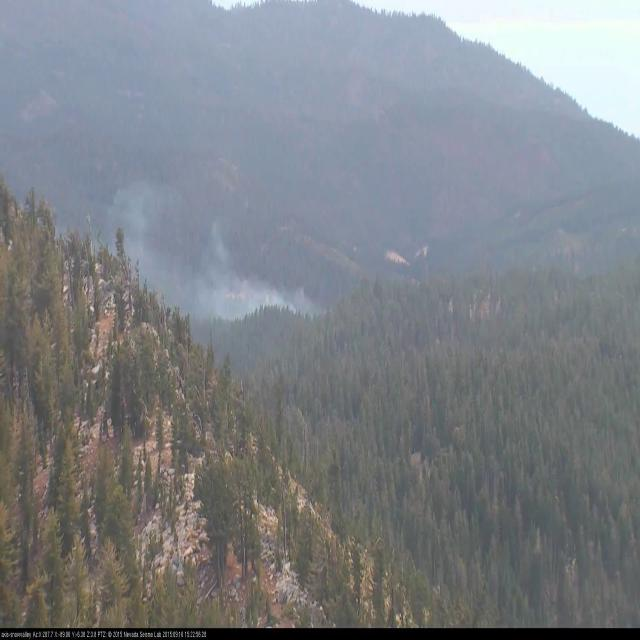smoke: (102, 173, 341, 332)
